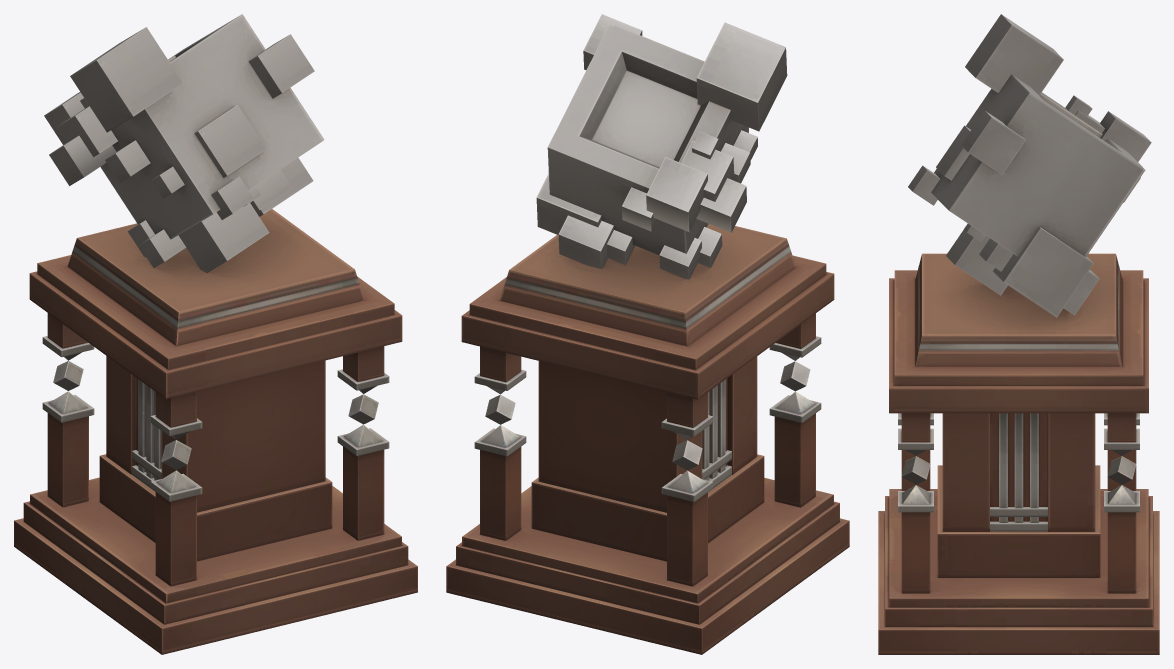
File: my_wildhunt_01_displaystand_04.glb
3 views of the same model, side by side, from view 1: azimuth 30°, elevation 25°; view 2: azimuth 150°, elevation 25°; view 3: azimuth 270°, elevation 25° (orthographic). The views are drawn at different scales.
Parts seen in each view (by area): view 1: my_wildhunt_01_displaystand_04; view 2: my_wildhunt_01_displaystand_04; view 3: my_wildhunt_01_displaystand_04.
Part boxes in pixels (<box>): my_wildhunt_01_displaystand_04: <box>14,14,417,654</box>; my_wildhunt_01_displaystand_04: <box>446,14,849,654</box>; my_wildhunt_01_displaystand_04: <box>878,14,1159,654</box>.
Bounding box in the file's own units: 0.00478 × 0.01 × 0.00477.
1 material, 1 textured.
